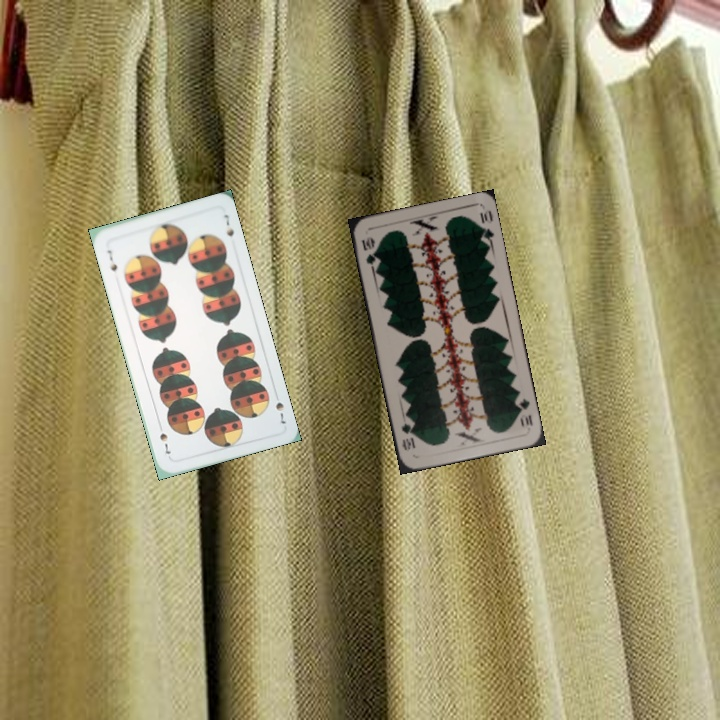G10: (357, 232, 379, 271), (513, 394, 535, 431)
S7: (270, 388, 288, 427), (103, 246, 120, 274)
